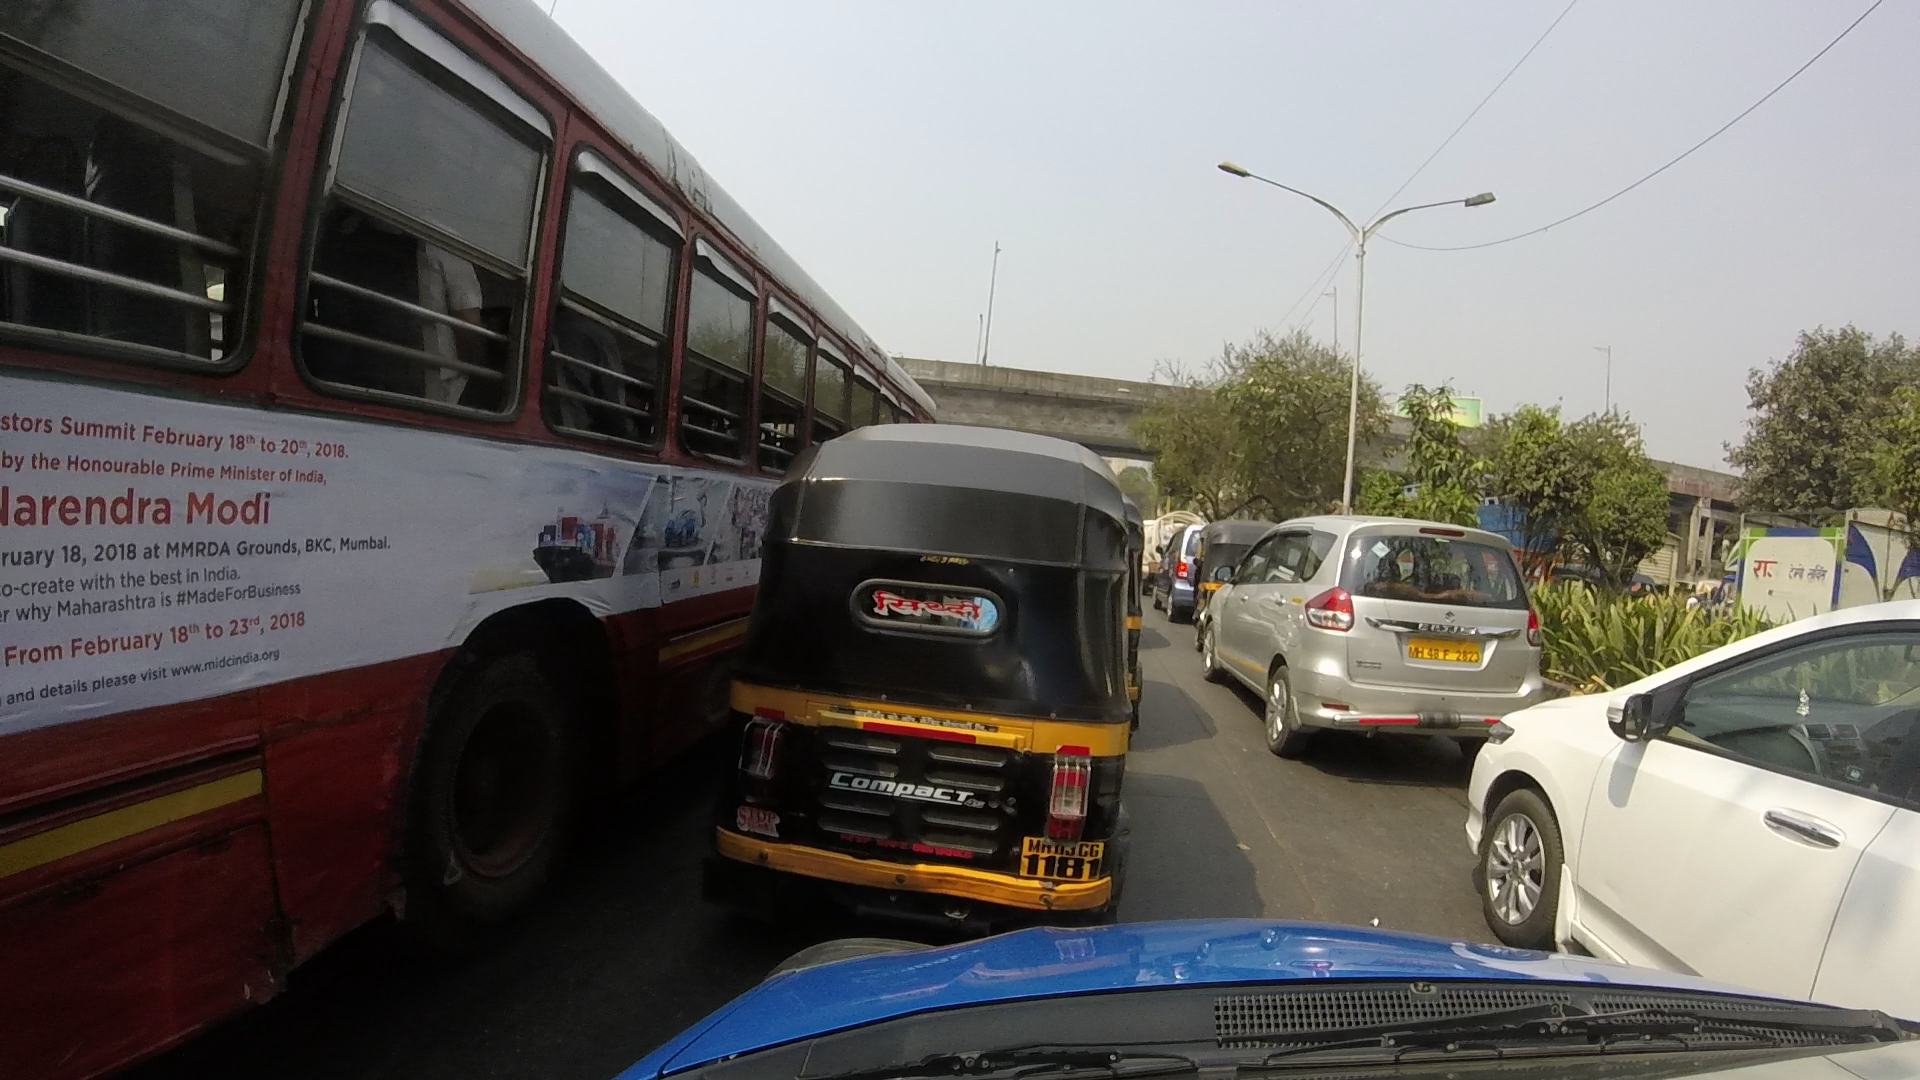bus: (47, 7, 934, 1080)
car: (1478, 607, 1920, 1004), (1203, 513, 1549, 760)
rickshaw: (735, 407, 1127, 934)
